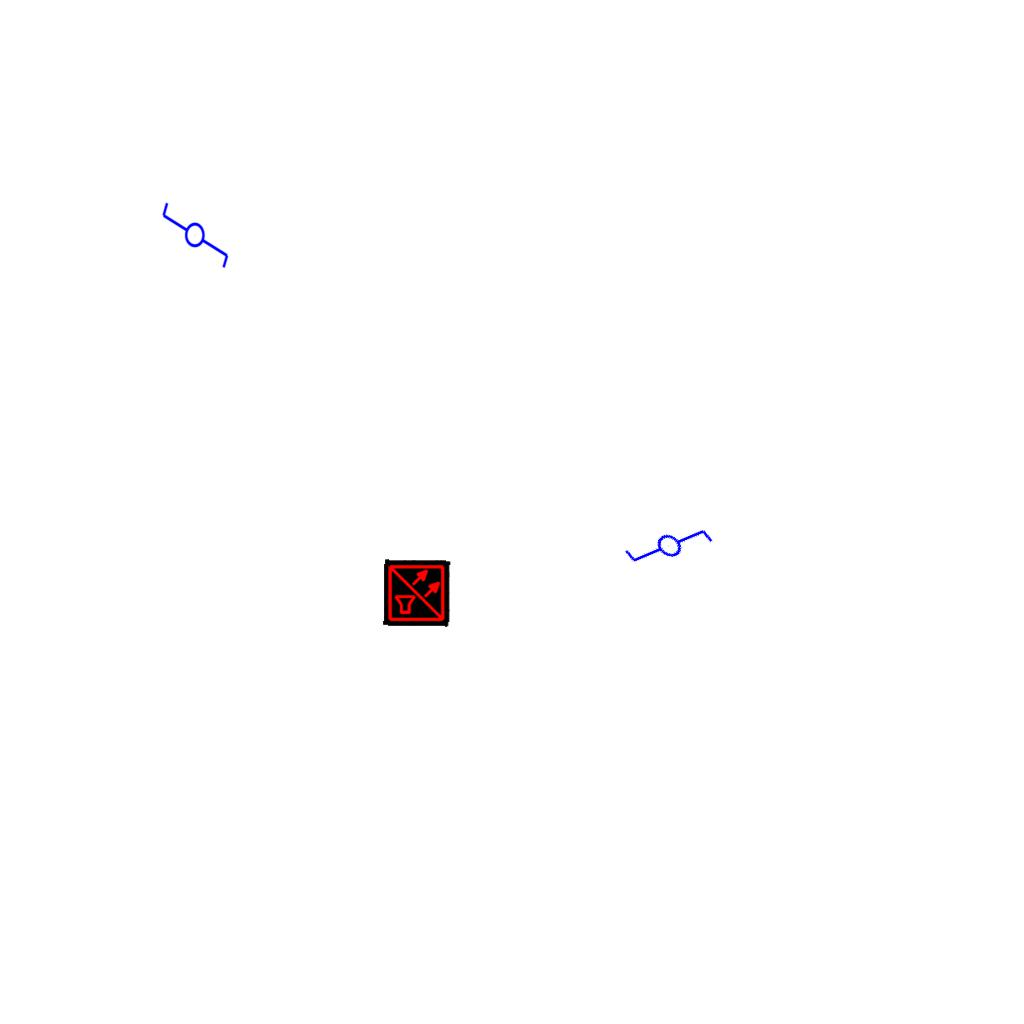OKW_Multisensormelder_(Kombination_optischer_Rauch-Kahlenmonoxid_Waerme-Melder): (383, 559, 451, 627)
Wechselschalter: (619, 497, 725, 601), (160, 192, 232, 270)
